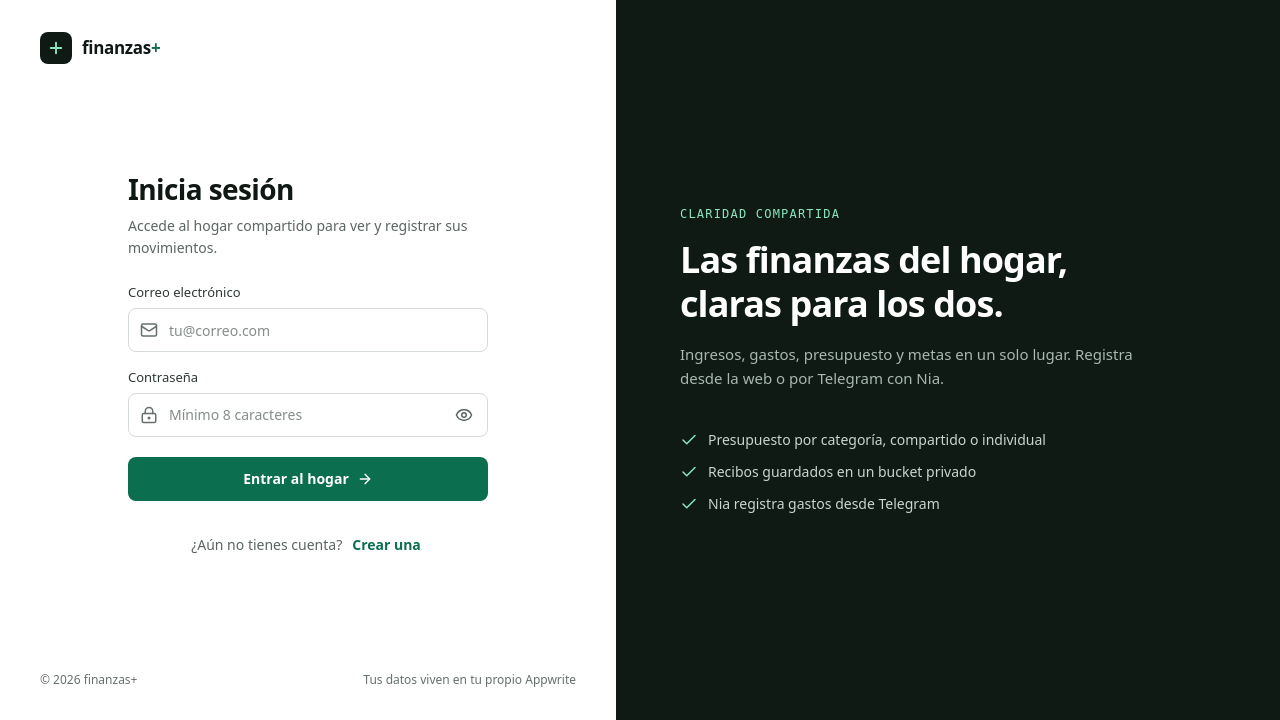
Test: AuthScreen › shows the name field and register copy after switching mode
Click the button "Crear una": (387,545) [348, 525, 425, 565]
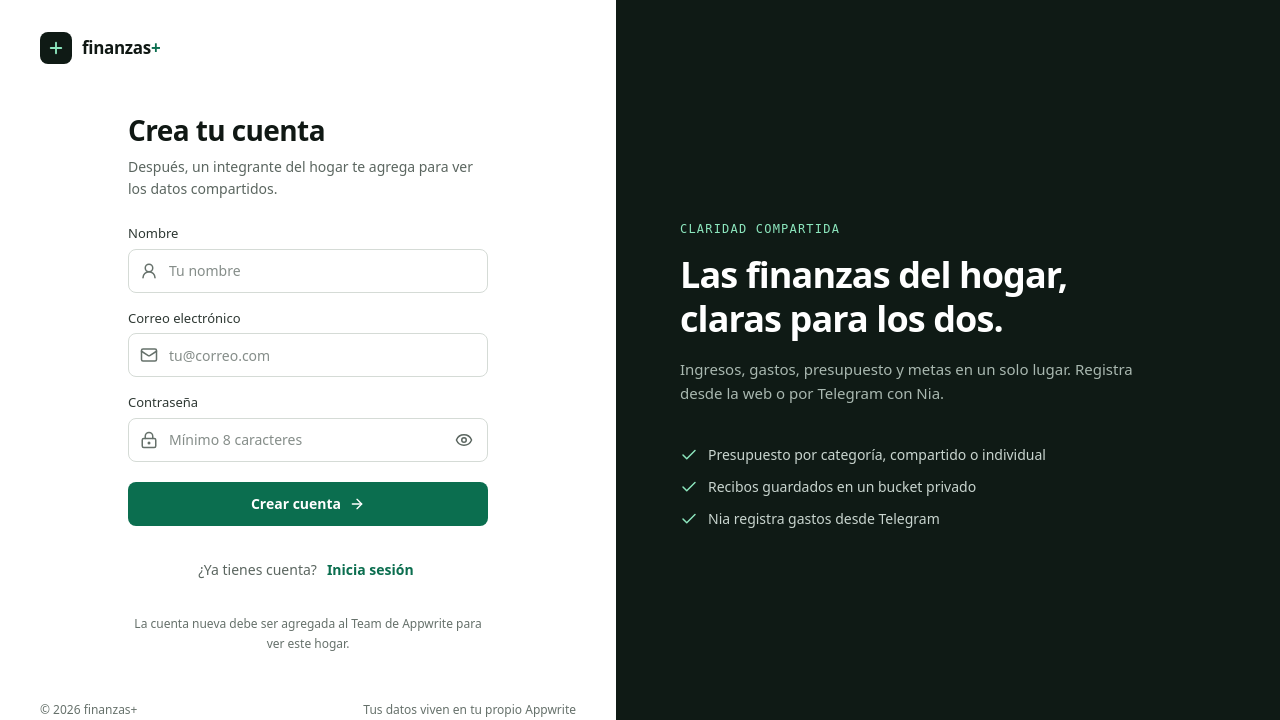
Check: the heading "Crea tu cuenta" is shown, box [128, 111, 325, 149]
Check: the text "La cuenta nueva debe ser agregada al Team de Appwrite" is shown, box [134, 615, 482, 652]
Click the button "Inicia sesión": (370,570) [323, 550, 418, 590]
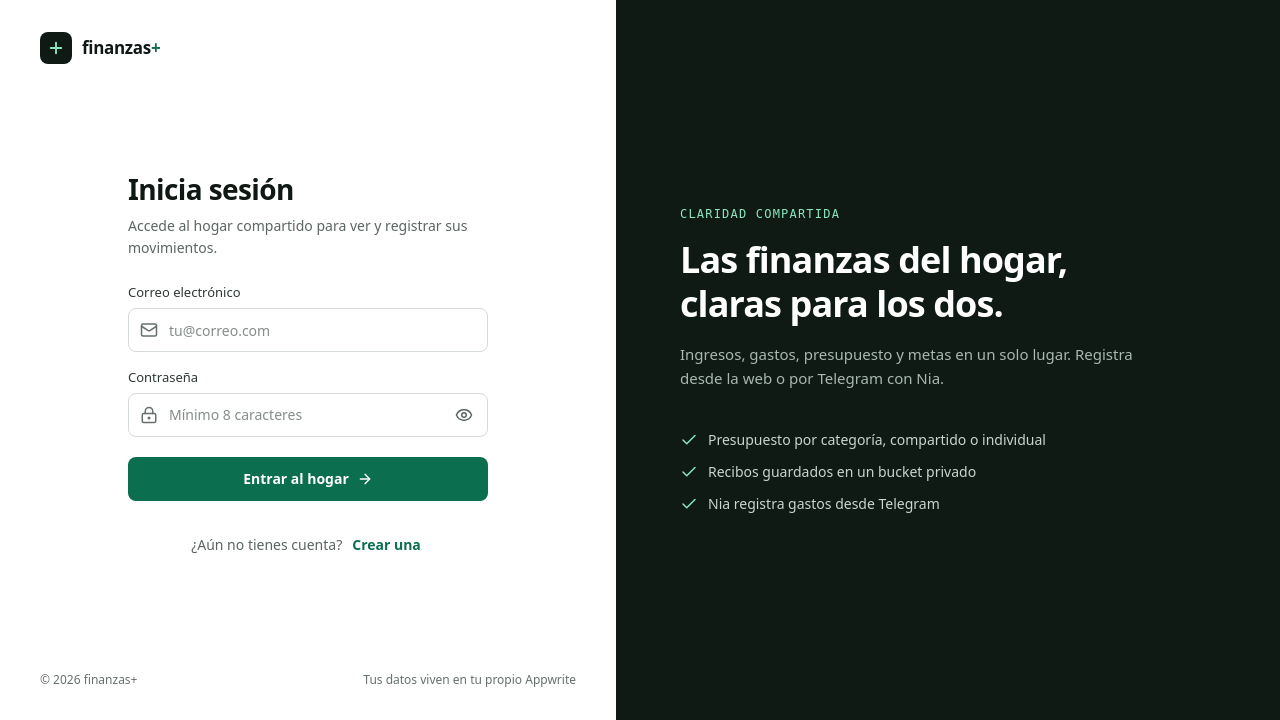
Check: the label labelled "Nombre" is gone
